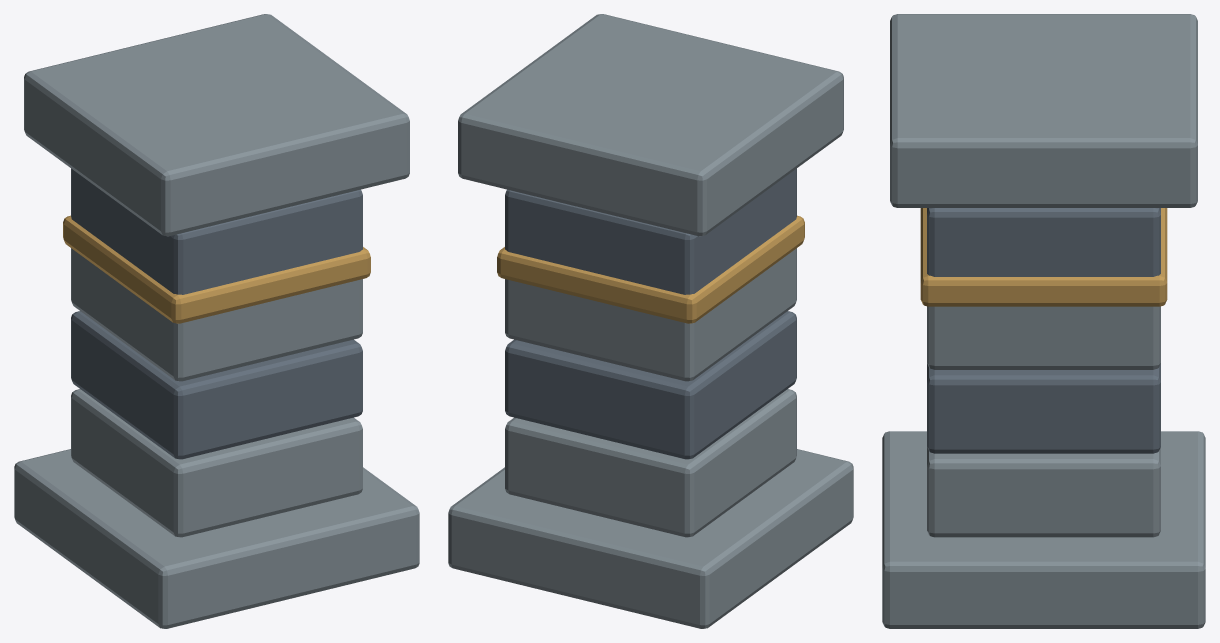
Rendered from castle_pier.glb.
3 renders of one model, left to right at view 1: azimuth 30°, elevation 25°; view 2: azimuth 150°, elevation 25°; view 3: azimuth 270°, elevation 25°, orthographic. The views are drawn at different scales.
Parts seen in each view (by area): view 1: Plinth.001, CornerStone.002, Band.001; view 2: Plinth.001, CornerStone.002, Band.001; view 3: Plinth.001, CornerStone.002, Band.001.
Boxes of the visible parts, x1=… form: Plinth.001: x1=14, y1=14, x2=419, y2=628; CornerStone.002: x1=71, y1=168, x2=362, y2=459; Band.001: x1=63, y1=215, x2=370, y2=323; Plinth.001: x1=448, y1=14, x2=853, y2=628; CornerStone.002: x1=505, y1=168, x2=796, y2=459; Band.001: x1=497, y1=215, x2=804, y2=323; Plinth.001: x1=882, y1=14, x2=1205, y2=628; CornerStone.002: x1=927, y1=208, x2=1160, y2=453; Band.001: x1=920, y1=208, x2=1167, y2=306.
Bounding box in the file's own units: 1.05 × 1.74 × 1.05.
